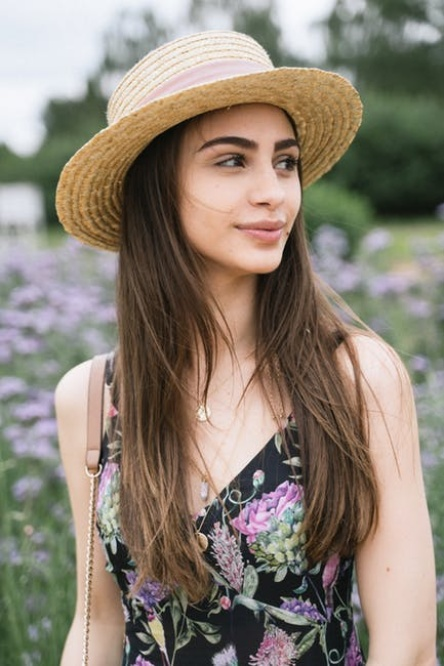face: (179, 107, 301, 276)
